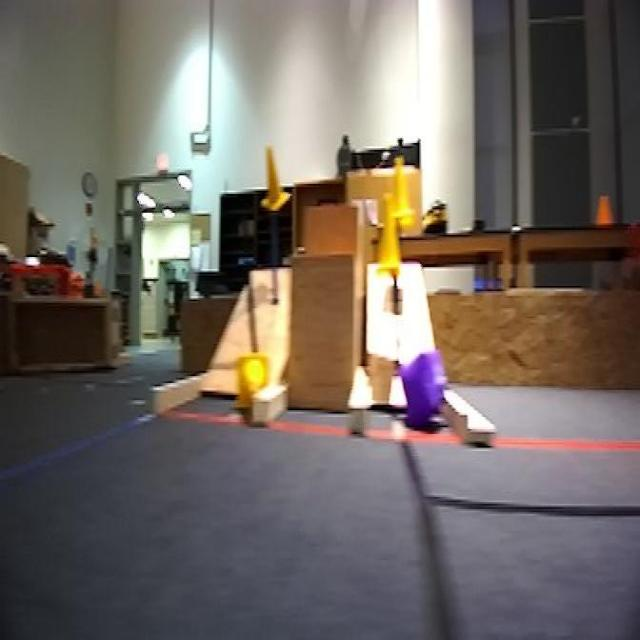frc_cone: (230, 347, 272, 410), (378, 199, 405, 279), (261, 145, 289, 211), (387, 155, 412, 218)
frc_cube: (396, 352, 451, 432)
